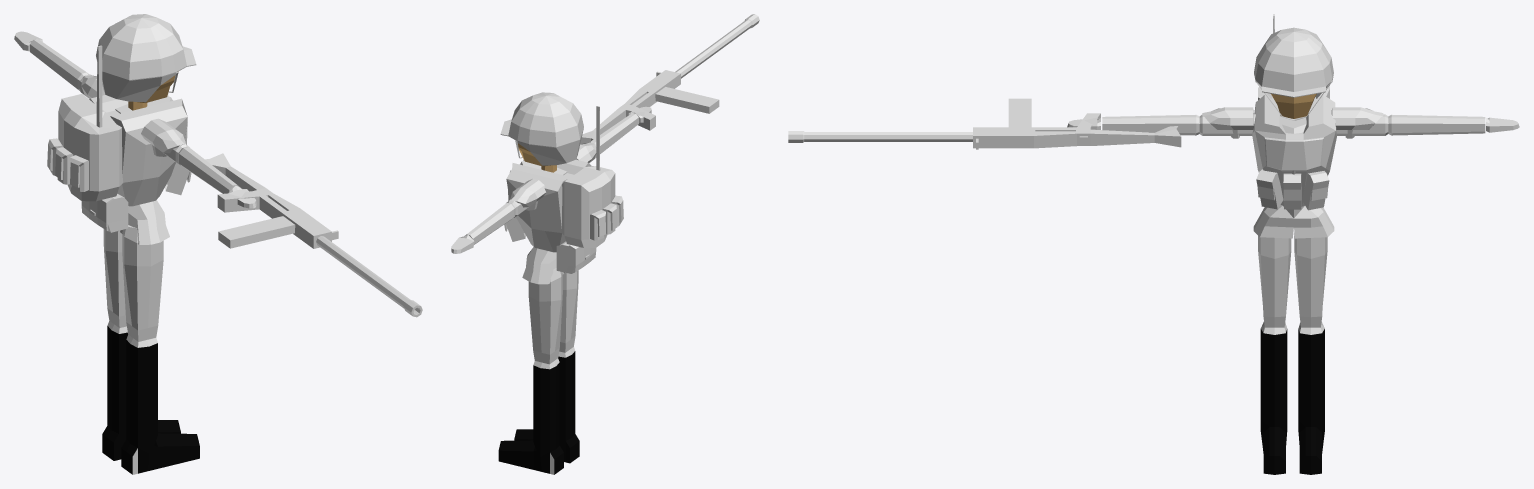
The model's file is soldier.fbx.
3 views of the same model, side by side, from view 1: azimuth 30°, elevation 25°; view 2: azimuth 150°, elevation 25°; view 3: azimuth 270°, elevation 25° (orthographic). The views are drawn at different scales.
Visible parts, largest first — view 1: Cube.028, Cube.042, Cube.041, Cube.019, Cube.026, Cube.022, Cube.035, Cube.037; view 2: Cube.028, Cube.022, Cube.019, Cube.041, Cube.026, Cube.042, Cube.035, Cube.038; view 3: Cube.028, Cube.042, Cube.022, Cube.019, Cube.026, Cube.037, Cube.038.
Boxes of the visible parts, bbox=[...] form: Cube.028: bbox=[14, 31, 422, 317]; Cube.042: bbox=[121, 225, 199, 474]; Cube.041: bbox=[47, 45, 123, 201]; Cube.019: bbox=[96, 14, 196, 110]; Cube.026: bbox=[89, 94, 187, 206]; Cube.022: bbox=[102, 229, 180, 460]; Cube.035: bbox=[81, 194, 128, 232]; Cube.037: bbox=[165, 163, 191, 195]; Cube.028: bbox=[451, 14, 759, 284]; Cube.022: bbox=[498, 268, 563, 474]; Cube.019: bbox=[500, 92, 583, 172]; Cube.041: bbox=[561, 106, 623, 247]; Cube.026: bbox=[506, 159, 591, 252]; Cube.042: bbox=[514, 270, 579, 463]; Cube.035: bbox=[556, 241, 596, 273]; Cube.038: bbox=[504, 217, 525, 241]; Cube.028: bbox=[788, 98, 1519, 238]; Cube.042: bbox=[1258, 236, 1291, 474]; Cube.022: bbox=[1294, 233, 1327, 474]; Cube.019: bbox=[1254, 27, 1333, 120]; Cube.026: bbox=[1252, 94, 1336, 206]; Cube.037: bbox=[1256, 169, 1283, 209]; Cube.038: bbox=[1302, 171, 1329, 210].
Bounding box in the file's own units: 261 × 822 × 1292.
